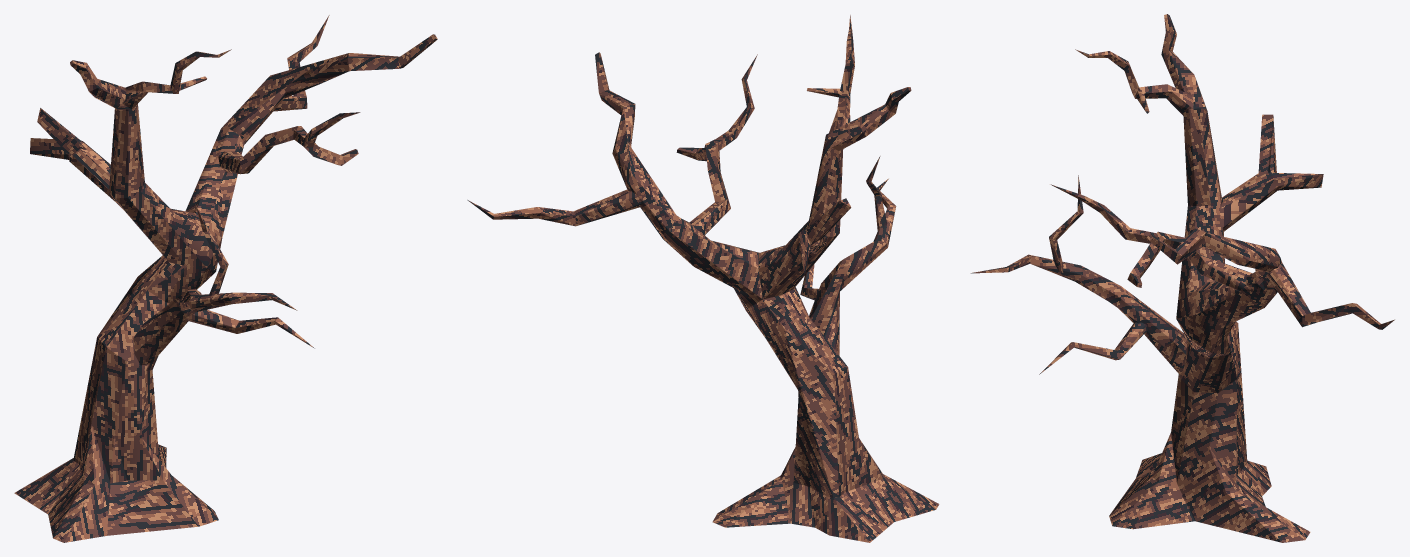
File: TreeDead1.dae
3 views of the same model, side by side, from view 1: azimuth 30°, elevation 25°; view 2: azimuth 150°, elevation 25°; view 3: azimuth 270°, elevation 25° (orthographic). The views are drawn at different scales.
Parts seen in each view (by area): view 1: Vegetation_Tree_Trunk_05; view 2: Vegetation_Tree_Trunk_05; view 3: Vegetation_Tree_Trunk_05.
Part boxes in pixels (<box>): Vegetation_Tree_Trunk_05: <box>14,15,437,542</box>; Vegetation_Tree_Trunk_05: <box>467,15,939,542</box>; Vegetation_Tree_Trunk_05: <box>970,14,1394,542</box>.
Size of the model in its own units: 5.08 by 4.83 by 5.91.
